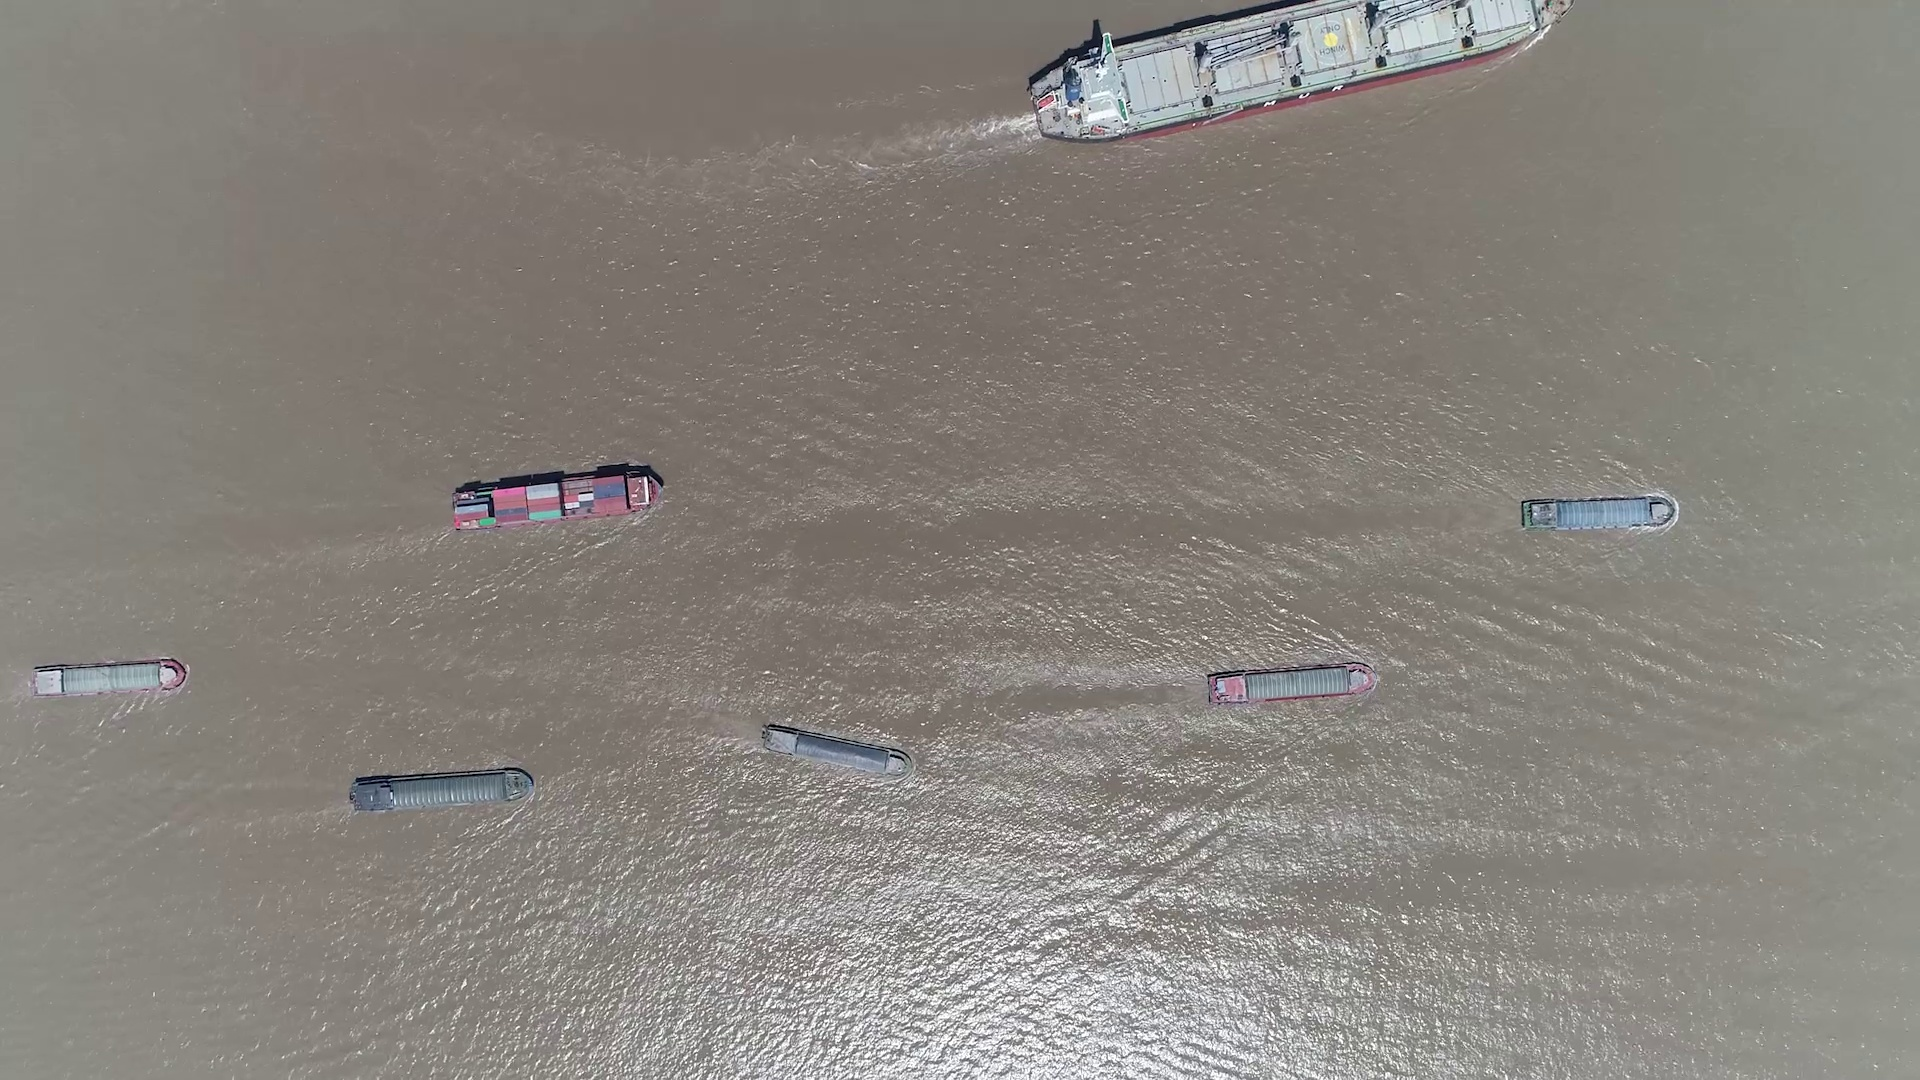ship: (1029, 1, 1575, 142), (451, 464, 665, 531), (349, 767, 535, 812), (762, 723, 910, 777), (1207, 663, 1379, 705), (30, 659, 187, 698), (1520, 497, 1676, 530)
